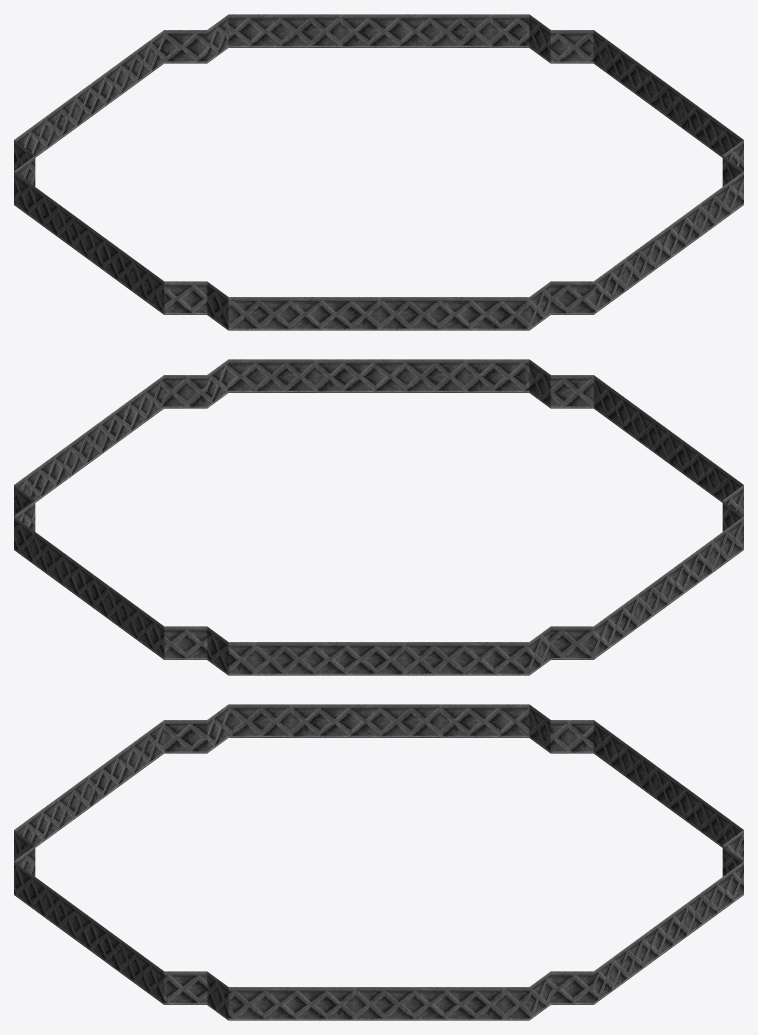
The model's file is trim.obj.
The picture shows the model from 3 angles, top to bottom: view 1: azimuth 30°, elevation 25°; view 2: azimuth 150°, elevation 25°; view 3: azimuth 270°, elevation 25°; orthographic projection.
Visible parts, largest first — view 1: Cylinder.010_Cylinder.034; view 2: Cylinder.010_Cylinder.034; view 3: Cylinder.010_Cylinder.034.
Part boxes in pixels (bbox=[...]): Cylinder.010_Cylinder.034: bbox=[14, 14, 743, 330]; Cylinder.010_Cylinder.034: bbox=[14, 359, 743, 675]; Cylinder.010_Cylinder.034: bbox=[14, 704, 743, 1020].
Bounding box in the file's own units: 18 × 1 × 19.63.
